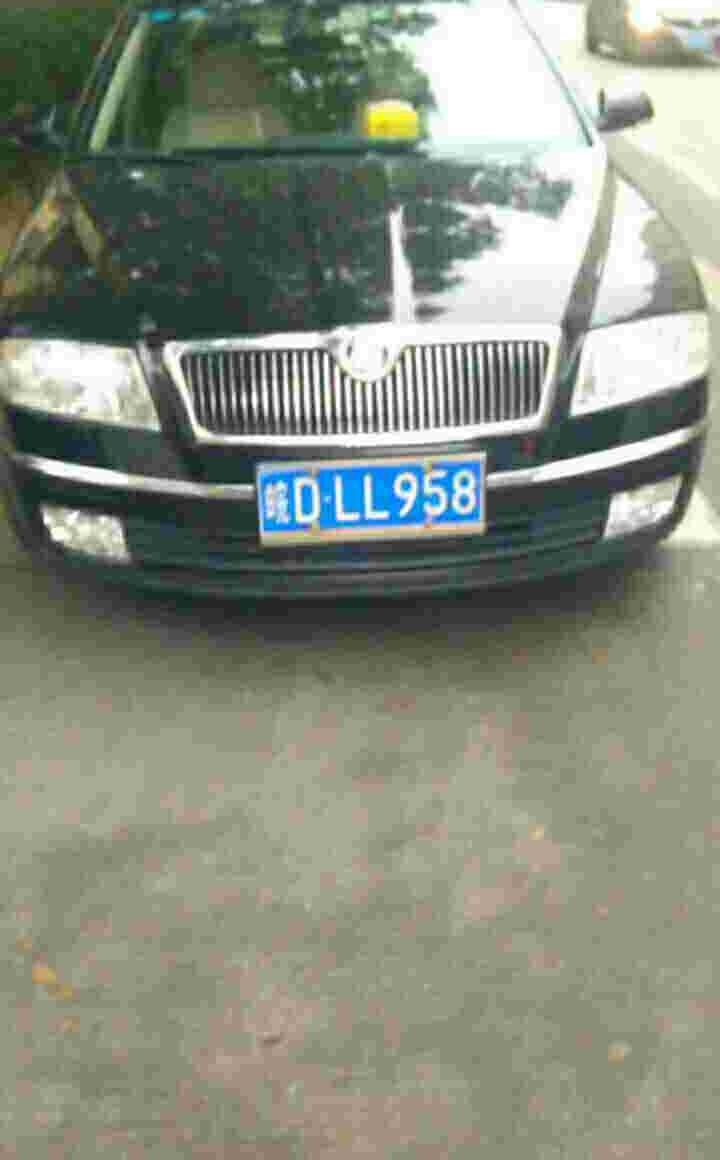license_plate: (259, 460, 483, 534)
